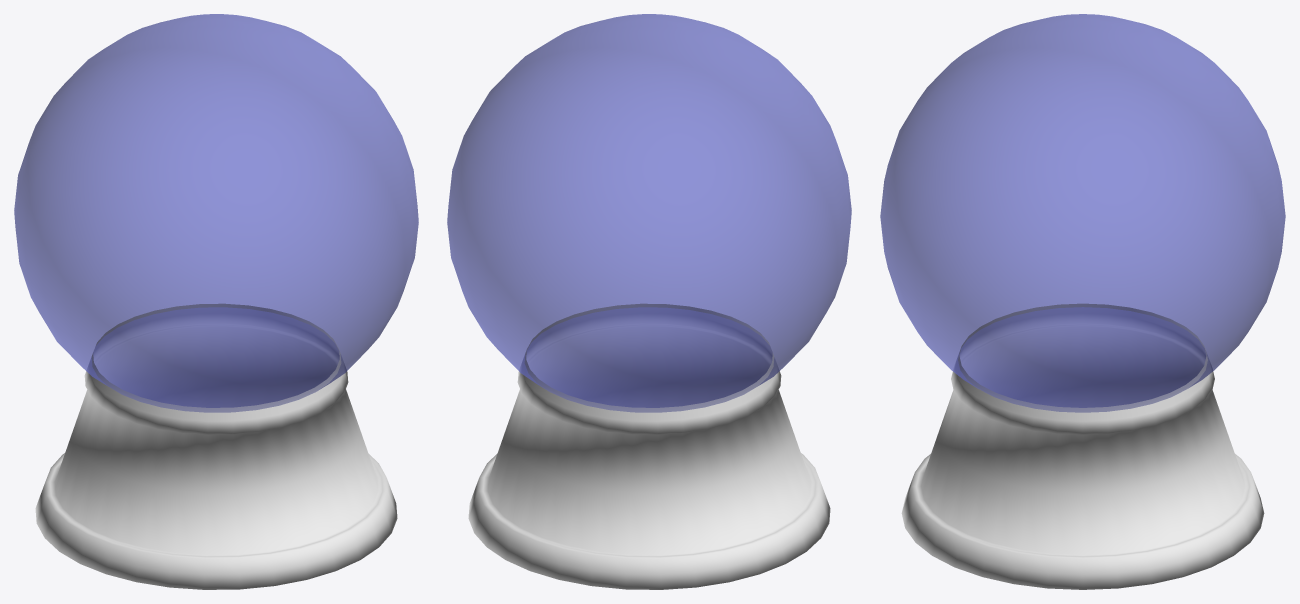
The model's file is crystal_ball.fbx.
3 renders of one model, left to right at view 1: azimuth 30°, elevation 25°; view 2: azimuth 150°, elevation 25°; view 3: azimuth 270°, elevation 25°, orthographic.
Visible parts, largest first — view 1: crystall_ball; view 2: crystall_ball; view 3: crystall_ball.
Part boxes in pixels (x1,y1,x2,y2): crystall_ball: [14, 14, 418, 589]; crystall_ball: [447, 14, 851, 589]; crystall_ball: [880, 14, 1285, 589].
Size of the model in its own units: 43.15 by 56.44 by 43.15.
